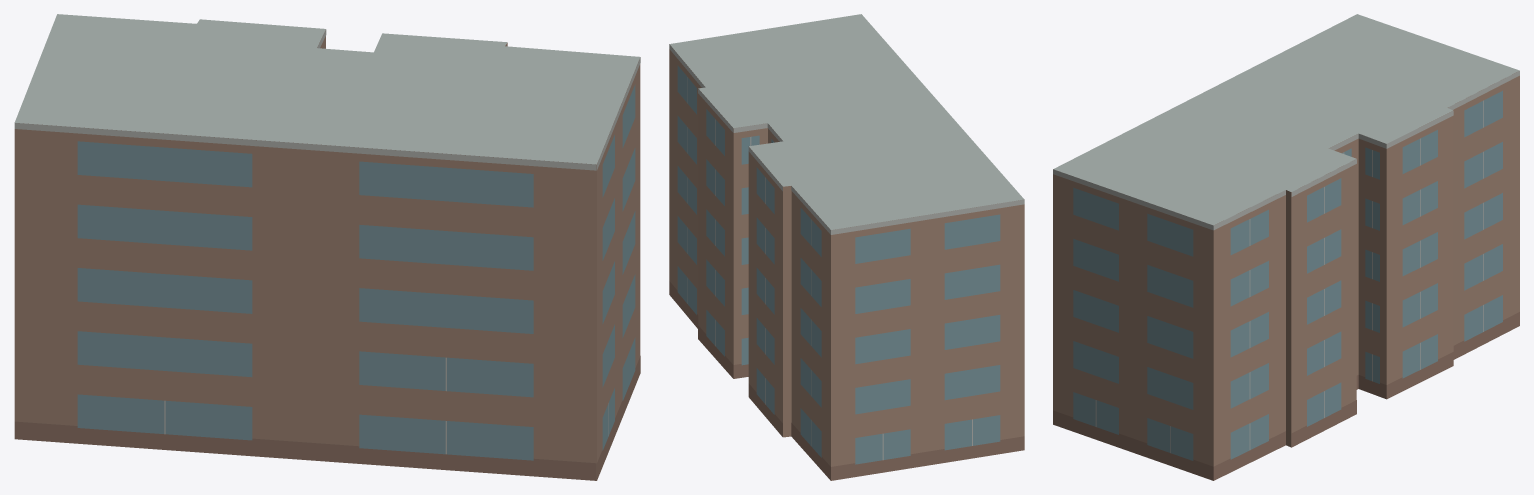
Rendered from survey-upis-32675447.glb.
3 renders of one model, left to right at view 1: azimuth 30°, elevation 25°; view 2: azimuth 150°, elevation 25°; view 3: azimuth 270°, elevation 25°, orthographic. The views are drawn at different scales.
Parts seen in each view (by area): view 1: survey-upis-32675447.tmp; view 2: survey-upis-32675447.tmp; view 3: survey-upis-32675447.tmp.
Boxes of the visible parts, left/top/right/bottom form: survey-upis-32675447.tmp: left=14, top=14, right=640, bottom=480; survey-upis-32675447.tmp: left=669, top=14, right=1024, bottom=480; survey-upis-32675447.tmp: left=1053, top=14, right=1519, bottom=480.
Size of the model in its own units: 22.21 by 12.5 by 20.71.
